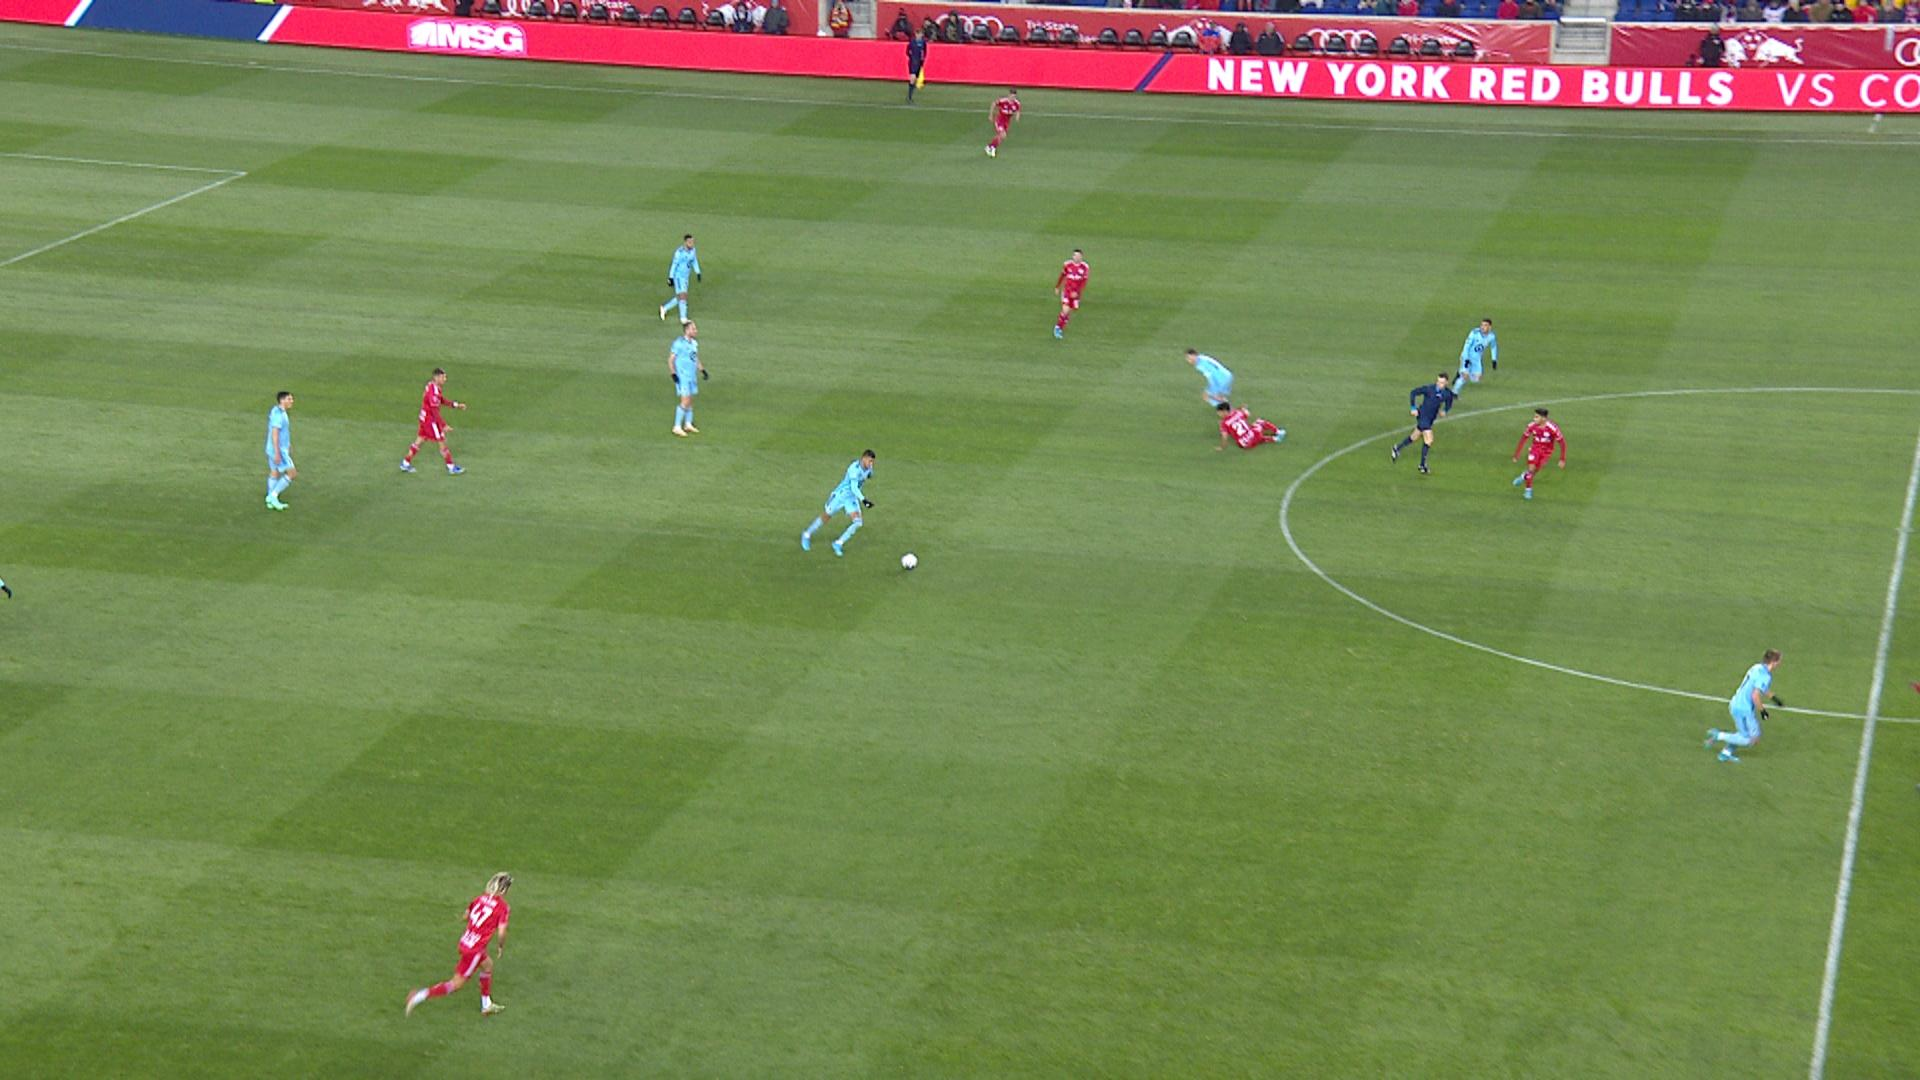football: (900, 551, 919, 571)
